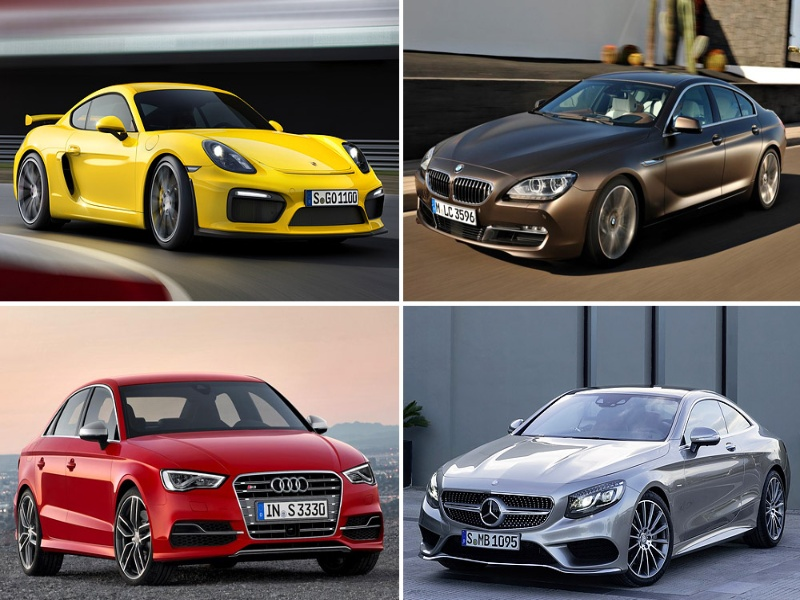car: (14, 373, 385, 584), (419, 386, 791, 587), (414, 73, 788, 267), (14, 82, 385, 247)
plate: (429, 197, 476, 226), (255, 501, 326, 519), (462, 530, 520, 549), (304, 190, 358, 206)
